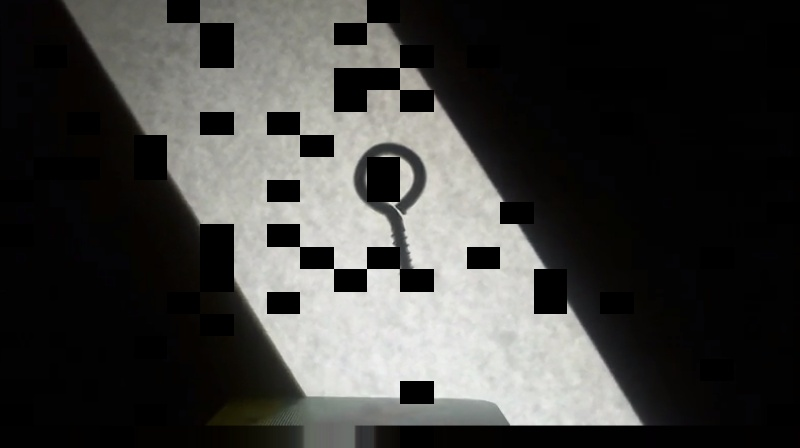O001: (349, 141, 432, 292)
